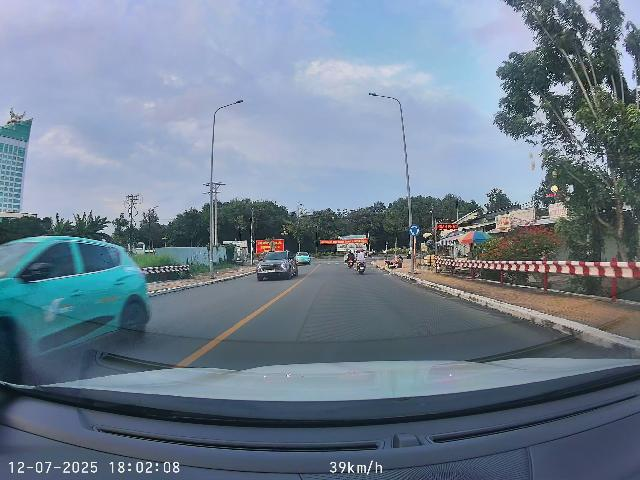303-noi-giao-nhau-chay-theo-vong-xuyen: (408, 224, 421, 236)
